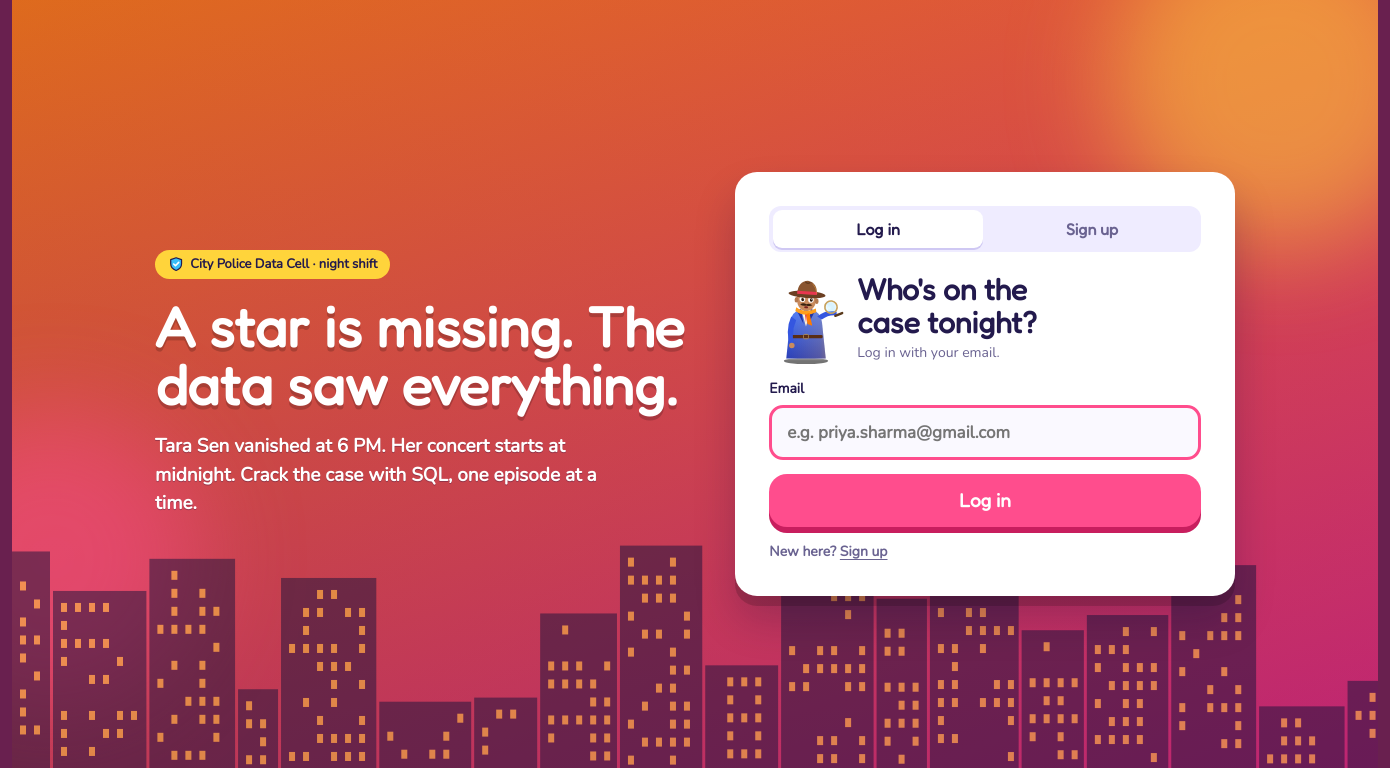
log in › too many tries and no connection are explained
Type "priya@gmail.com" into the field labelled "Email".
click(985, 433); type("priya@gmail.com")  # box [769,405,1201,460]
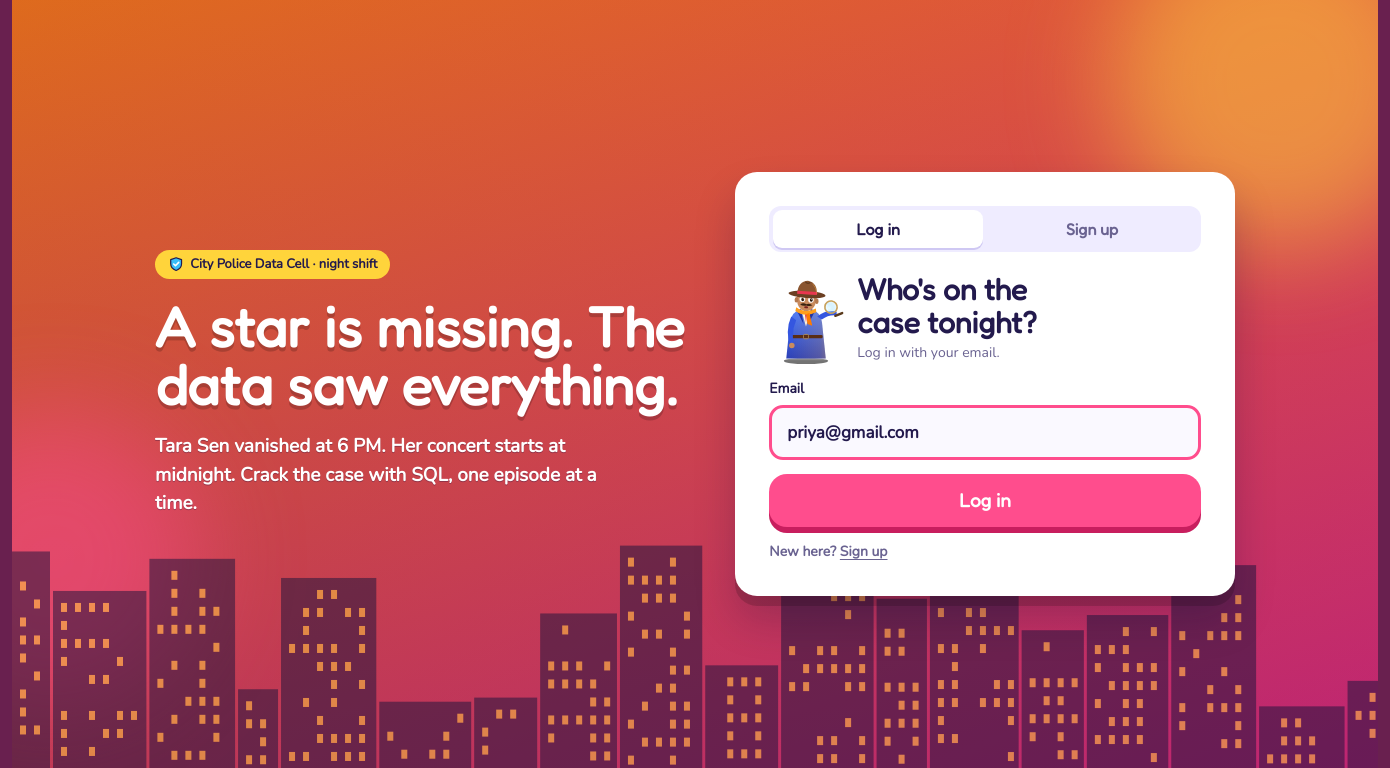
Click the button "Log in".
click(985, 501)  # box [769,474,1201,527]
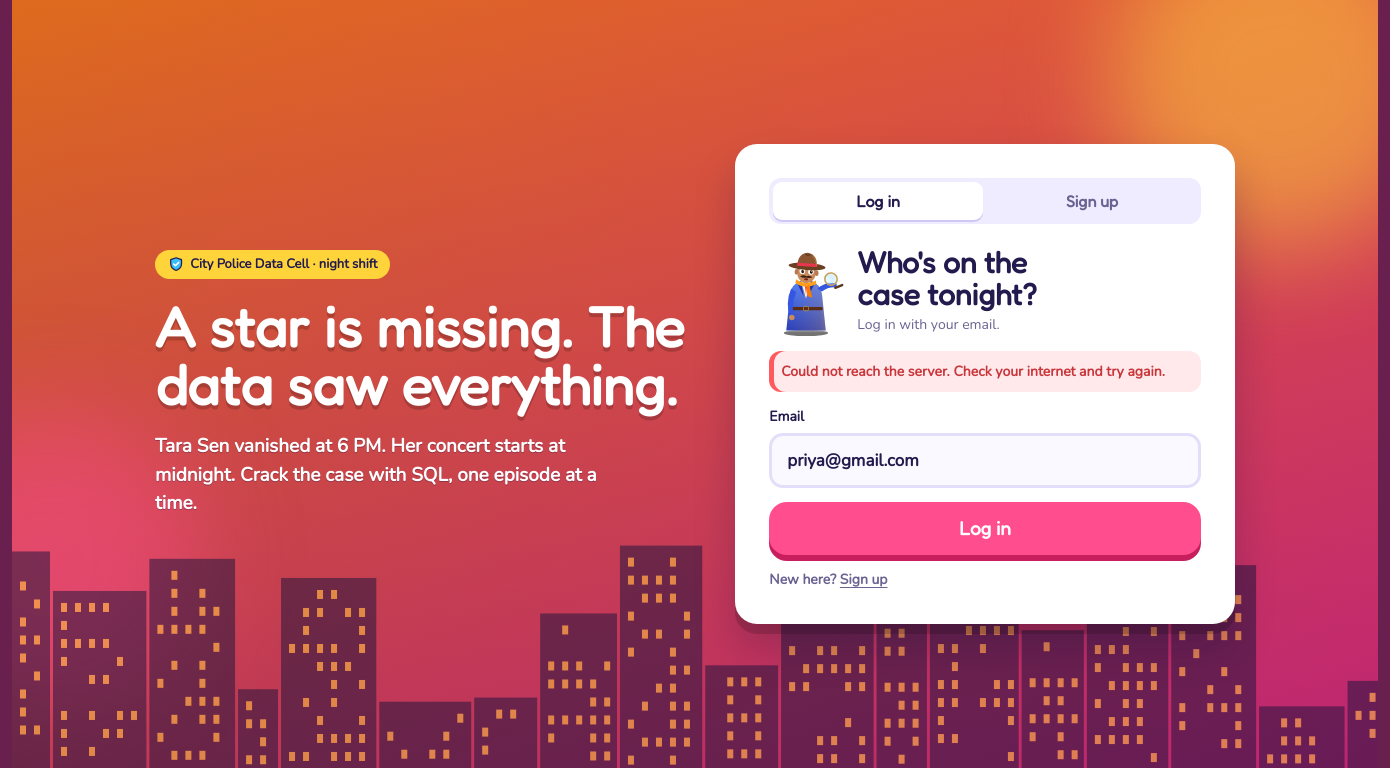
Expected: the message shows "Could not reach the server", [781,362,1165,381]
